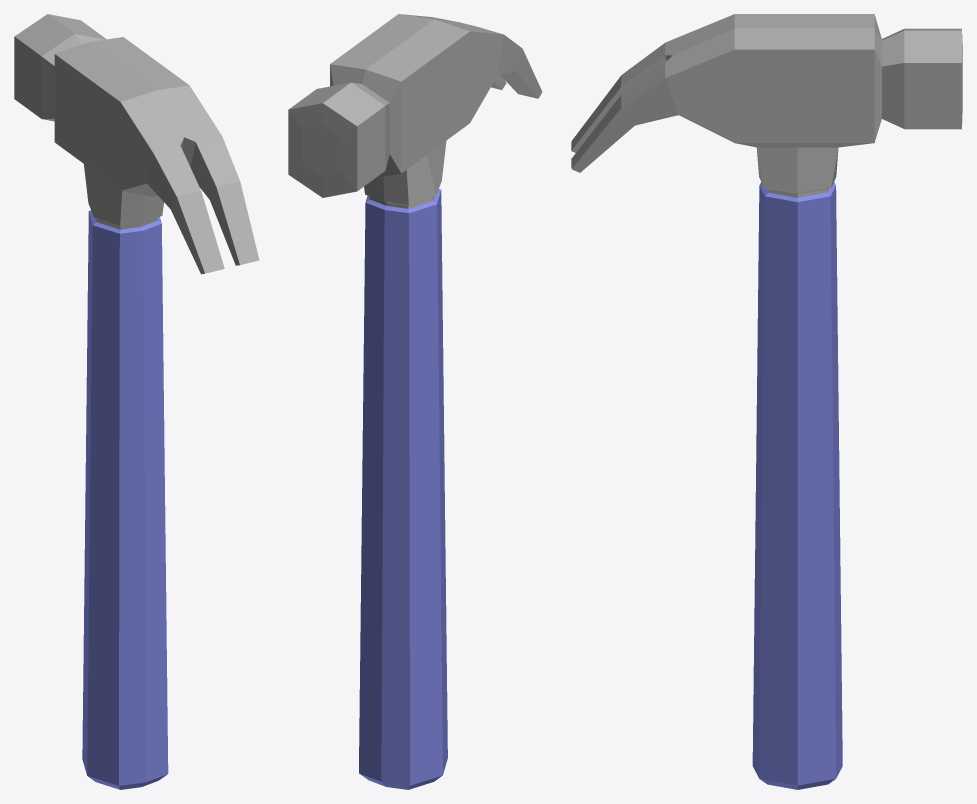
The model's file is hammer.3eea4a21.glb.
3 renders of one model, left to right at view 1: azimuth 30°, elevation 25°; view 2: azimuth 150°, elevation 25°; view 3: azimuth 270°, elevation 25°, orthographic. The views are drawn at different scales.
Visible parts, largest first — view 1: Hammer_Circle.002; view 2: Hammer_Circle.002; view 3: Hammer_Circle.002.
Part boxes in pixels (x1,y1,x2,y2): Hammer_Circle.002: (14, 14, 259, 789); Hammer_Circle.002: (288, 14, 542, 789); Hammer_Circle.002: (571, 14, 962, 789).
Size of the model in its own units: 0.0552 by 0.4874 by 0.2317.
